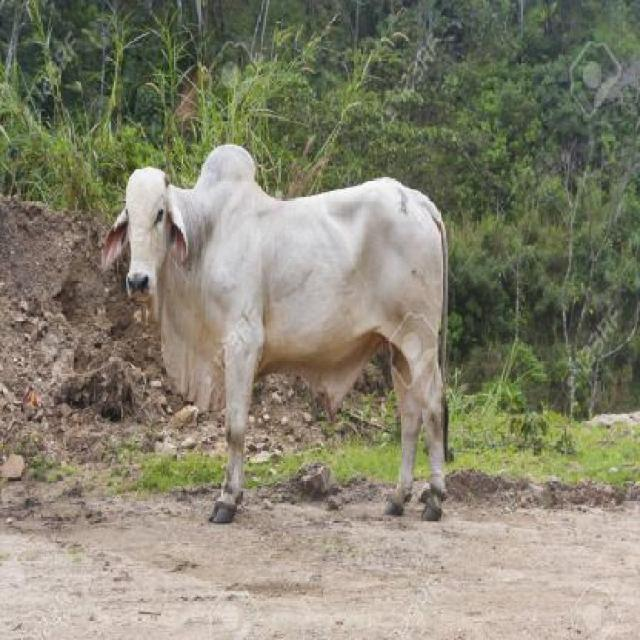Cow: (116, 140, 462, 529)
